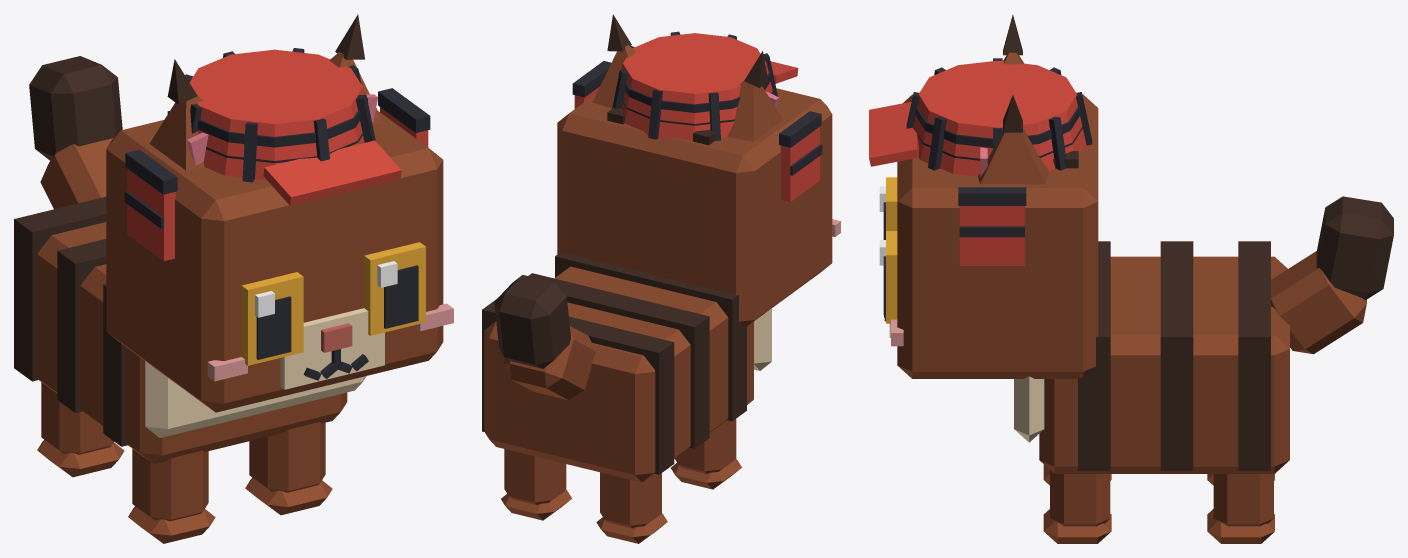
Rendered from CatCafe_Cat_ForestCat.glb.
The picture shows the model from 3 angles, left to right: view 1: azimuth 30°, elevation 25°; view 2: azimuth 150°, elevation 25°; view 3: azimuth 270°, elevation 25°; orthographic projection. The views are drawn at different scales.
Parts seen in each view (by area): view 1: CatCafe_Cat_ForestCat_Head, CatCafe_Cat_ForestCat_Body, CatCafe_Cat_ForestCat_Prop, CatCafe_Cat_ForestCat_Tail, CatCafe_Cat_ForestCat_LegF2, CatCafe_Cat_ForestCat_LegF1, CatCafe_Cat_ForestCat_Eye2, CatCafe_Cat_ForestCat_Eye1, CatCafe_Cat_ForestCat_LegB2, CatCafe_Cat_ForestCat_EarR, CatCafe_Cat_ForestCat_EarL; view 2: CatCafe_Cat_ForestCat_Head, CatCafe_Cat_ForestCat_Body, CatCafe_Cat_ForestCat_Prop, CatCafe_Cat_ForestCat_Tail, CatCafe_Cat_ForestCat_LegB2, CatCafe_Cat_ForestCat_LegB1, CatCafe_Cat_ForestCat_LegF2, CatCafe_Cat_ForestCat_EarR, CatCafe_Cat_ForestCat_EarL; view 3: CatCafe_Cat_ForestCat_Body, CatCafe_Cat_ForestCat_Head, CatCafe_Cat_ForestCat_Prop, CatCafe_Cat_ForestCat_Tail, CatCafe_Cat_ForestCat_LegF1, CatCafe_Cat_ForestCat_LegB1, CatCafe_Cat_ForestCat_EarL, CatCafe_Cat_ForestCat_Eye1, CatCafe_Cat_ForestCat_Eye2, CatCafe_Cat_ForestCat_EarR.
Boxes of the visible parts, bbox=[...] form: CatCafe_Cat_ForestCat_Head: bbox=[106, 111, 453, 412]; CatCafe_Cat_ForestCat_Body: bbox=[14, 196, 366, 464]; CatCafe_Cat_ForestCat_Prop: bbox=[124, 48, 430, 261]; CatCafe_Cat_ForestCat_Tail: bbox=[29, 56, 122, 209]; CatCafe_Cat_ForestCat_LegF2: bbox=[128, 449, 215, 543]; CatCafe_Cat_ForestCat_LegF1: bbox=[245, 422, 332, 515]; CatCafe_Cat_ForestCat_Eye2: bbox=[241, 272, 303, 365]; CatCafe_Cat_ForestCat_Eye1: bbox=[364, 242, 425, 335]; CatCafe_Cat_ForestCat_LegB2: bbox=[37, 382, 124, 477]; CatCafe_Cat_ForestCat_EarR: bbox=[149, 59, 208, 170]; CatCafe_Cat_ForestCat_EarL: bbox=[329, 14, 382, 125]; CatCafe_Cat_ForestCat_Head: bbox=[557, 88, 840, 327]; CatCafe_Cat_ForestCat_Body: bbox=[482, 251, 771, 482]; CatCafe_Cat_ForestCat_Prop: bbox=[572, 31, 822, 201]; CatCafe_Cat_ForestCat_Tail: bbox=[494, 275, 595, 400]; CatCafe_Cat_ForestCat_LegB2: bbox=[596, 472, 667, 543]; CatCafe_Cat_ForestCat_LegB1: bbox=[501, 449, 571, 520]; CatCafe_Cat_ForestCat_LegF2: bbox=[671, 419, 741, 489]; CatCafe_Cat_ForestCat_EarR: bbox=[727, 51, 783, 141]; CatCafe_Cat_ForestCat_EarL: bbox=[592, 14, 636, 108]; CatCafe_Cat_ForestCat_Body: bbox=[1014, 241, 1289, 473]; CatCafe_Cat_ForestCat_Head: bbox=[884, 94, 1098, 378]; CatCafe_Cat_ForestCat_Prop: bbox=[869, 58, 1092, 265]; CatCafe_Cat_ForestCat_Tail: bbox=[1271, 196, 1393, 354]; CatCafe_Cat_ForestCat_LegF1: bbox=[1043, 470, 1111, 543]; CatCafe_Cat_ForestCat_LegB1: bbox=[1207, 474, 1274, 543]; CatCafe_Cat_ForestCat_EarL: bbox=[978, 95, 1048, 184]; CatCafe_Cat_ForestCat_Eye1: bbox=[879, 231, 897, 323]; CatCafe_Cat_ForestCat_Eye2: bbox=[879, 177, 897, 239]; CatCafe_Cat_ForestCat_EarR: bbox=[1003, 14, 1023, 64].
Size of the model in its own units: 1.34 by 2.4 by 2.51.
1 material, 1 textured.
